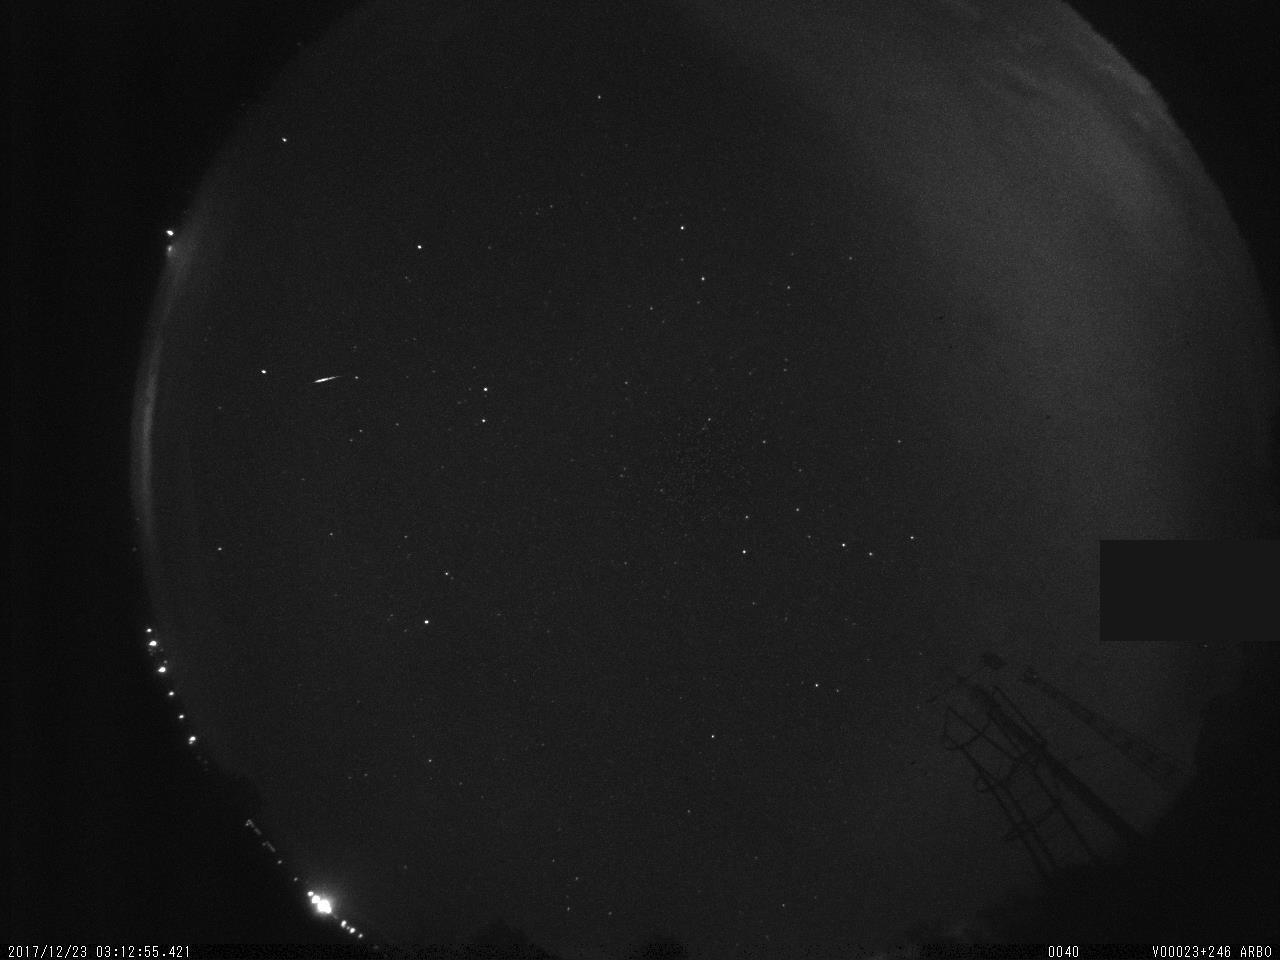meteor: (306, 364, 353, 396)
